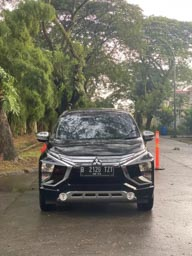plat: (79, 164, 116, 172)
